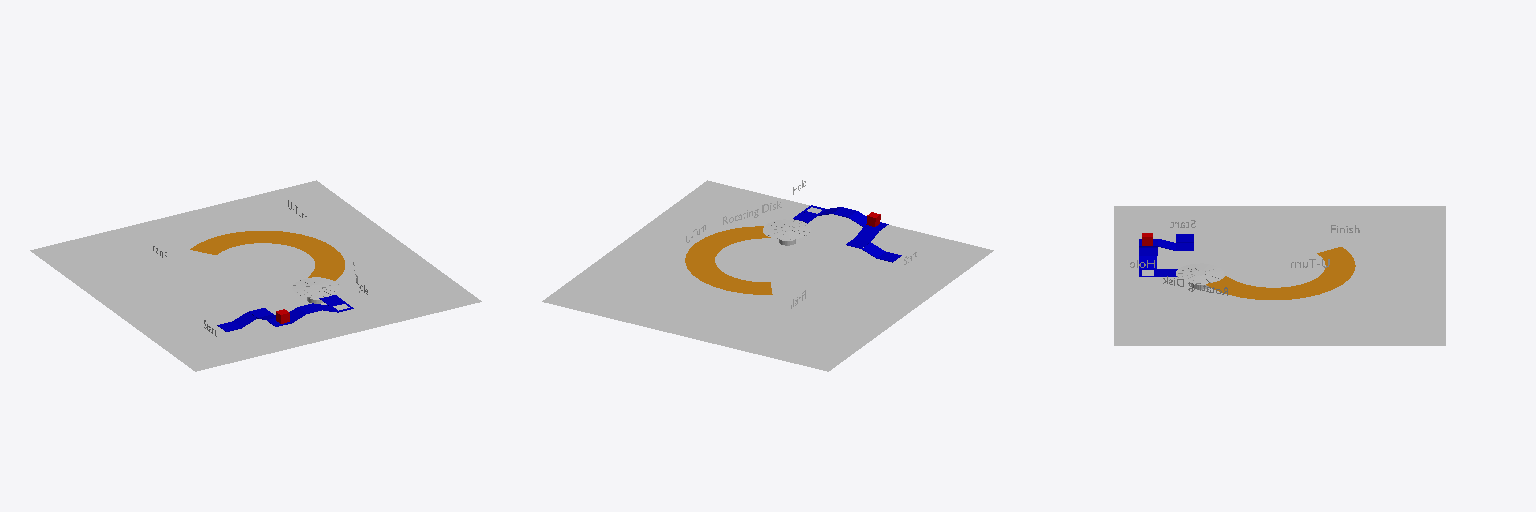
The model's file is workspace.obj.
3 renders of one model, left to right at view 1: azimuth 30°, elevation 25°; view 2: azimuth 150°, elevation 25°; view 3: azimuth 270°, elevation 25°, orthographic.
Visible parts, largest first — view 1: Plane, Cylinder.001, Cylinder; view 2: Plane, Cylinder.001, Cylinder; view 3: Plane, Cylinder.001, Cylinder.
Part boxes in pixels (bbox=[...]): Plane: bbox=[30, 180, 481, 371]; Cylinder.001: bbox=[190, 231, 344, 280]; Cylinder: bbox=[292, 278, 339, 303]; Plane: bbox=[542, 180, 993, 371]; Cylinder.001: bbox=[685, 226, 772, 294]; Cylinder: bbox=[764, 219, 810, 245]; Plane: bbox=[1114, 206, 1445, 345]; Cylinder.001: bbox=[1206, 247, 1355, 299]; Cylinder: bbox=[1176, 263, 1223, 289].
Bounding box in the file's own units: 4.03 × 0.6541 × 4.03.